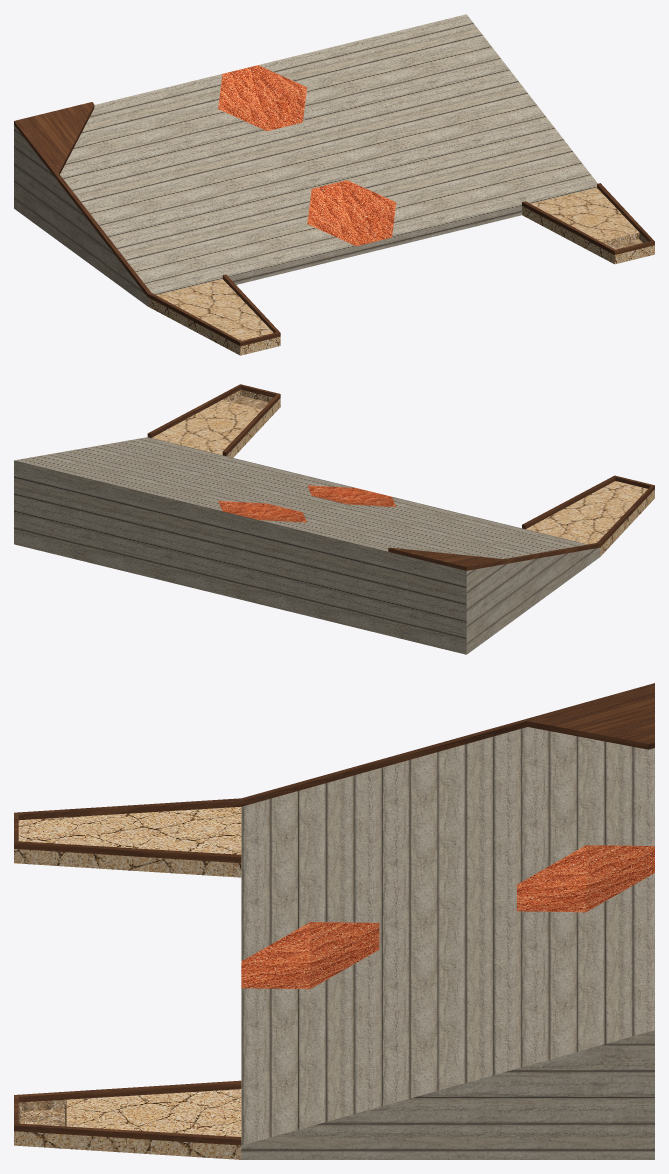
File: Stage2-06.gltf
3 renders of one model, top to bottom at view 1: azimuth 30°, elevation 25°; view 2: azimuth 150°, elevation 25°; view 3: azimuth 270°, elevation 25°, orthographic. The views are drawn at different scales.
Parts seen in each view (by area): view 1: Cube.001; view 2: Cube.001; view 3: Cube.001.
Boxes of the visible parts, x1=… form: Cube.001: x1=14, y1=14, x2=654, y2=355; Cube.001: x1=14, y1=384, x2=654, y2=654; Cube.001: x1=14, y1=683, x2=654, y2=1159.
Size of the model in its own units: 25.4 by 4.7 by 20.15.
Materials: 9 (9 with a texture image).
